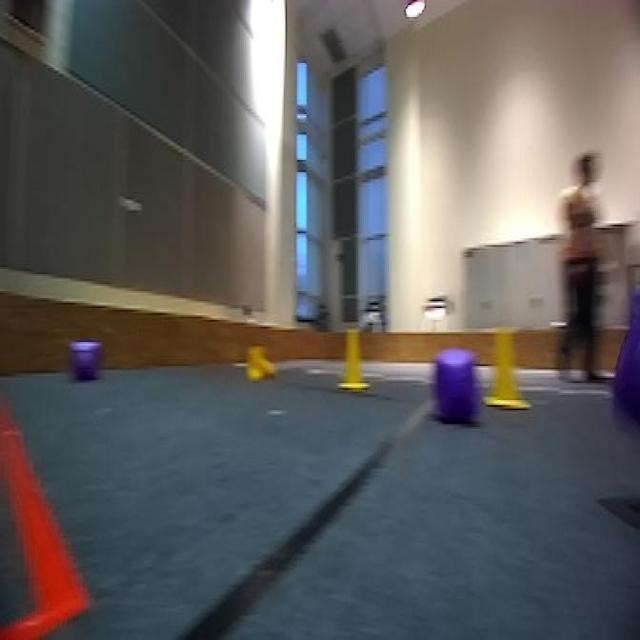frc_cone: (486, 330, 526, 414), (334, 325, 370, 392), (242, 342, 279, 383)
frc_cube: (604, 293, 640, 434), (434, 347, 480, 424), (71, 339, 98, 386)
